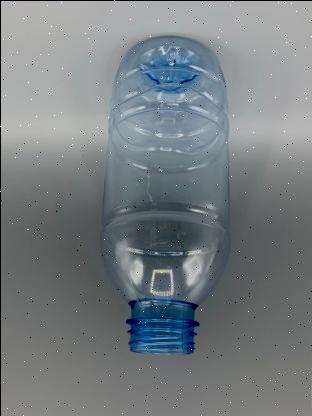Plastic Bottle: (84, 30, 234, 364)
